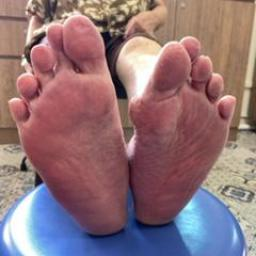Plantar View -Both Feet-: (1, 8, 249, 244)
